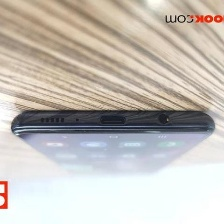phone: (6, 105, 217, 182)
